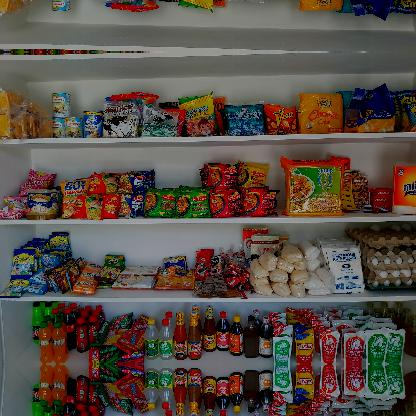Lady-s-Choice: (25, 188, 60, 219)
